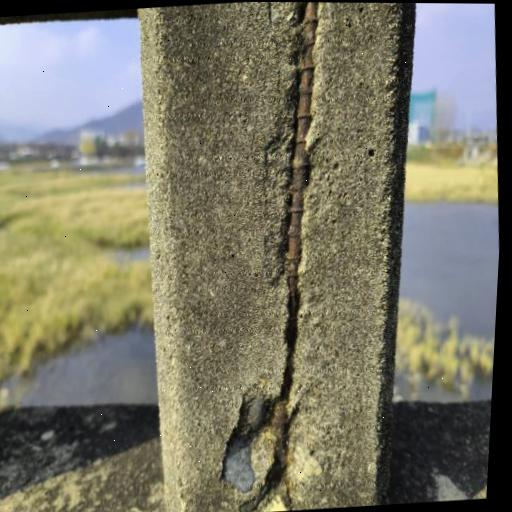exposed_rebar: (287, 2, 318, 352), (269, 371, 289, 481)
